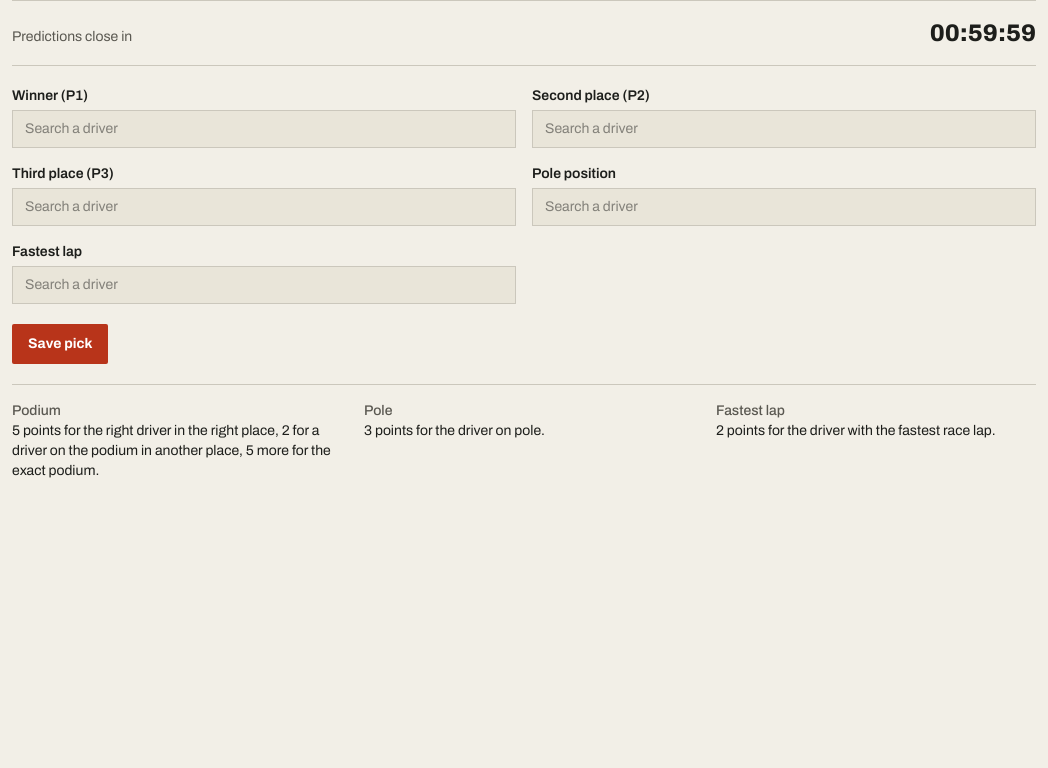
pick form › refuses to submit an incomplete pick
The image size is (1048, 768).
Expected: the dropdown labelled "Winner (P1)" is enabled, [12,110,516,148]
Click the button "Save pick" at x=60, y=344, box [12,324,108,364]
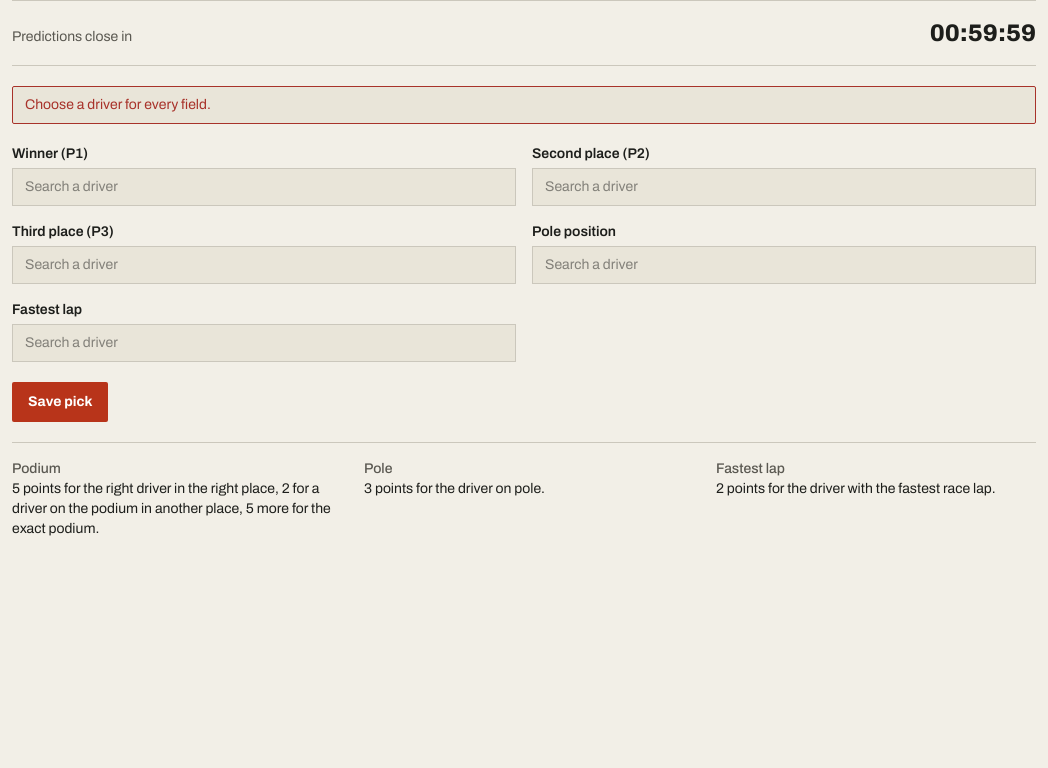
Expected: the text "Choose a driver for every field." is shown, [12,86,1036,124]
